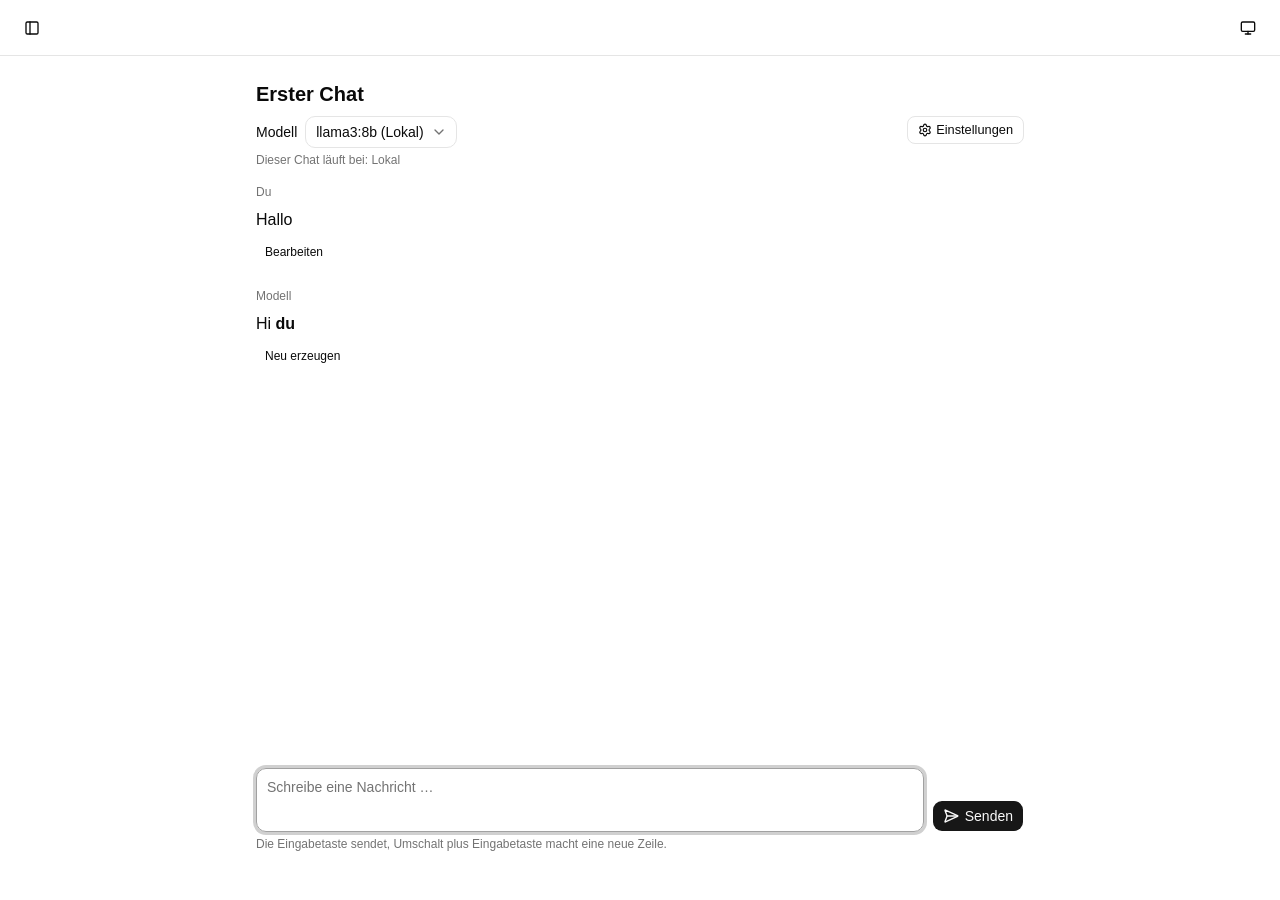
ChatPage: sending › does not leave a ghost message when the request is refused, and gives the text back
Expected: the heading "Erster Chat" is shown, 256,83 -> 364,105
Type "Neue Frage" into the text box labelled "Nachricht" at (590, 800), box 256,768 -> 924,832
Then press Enter
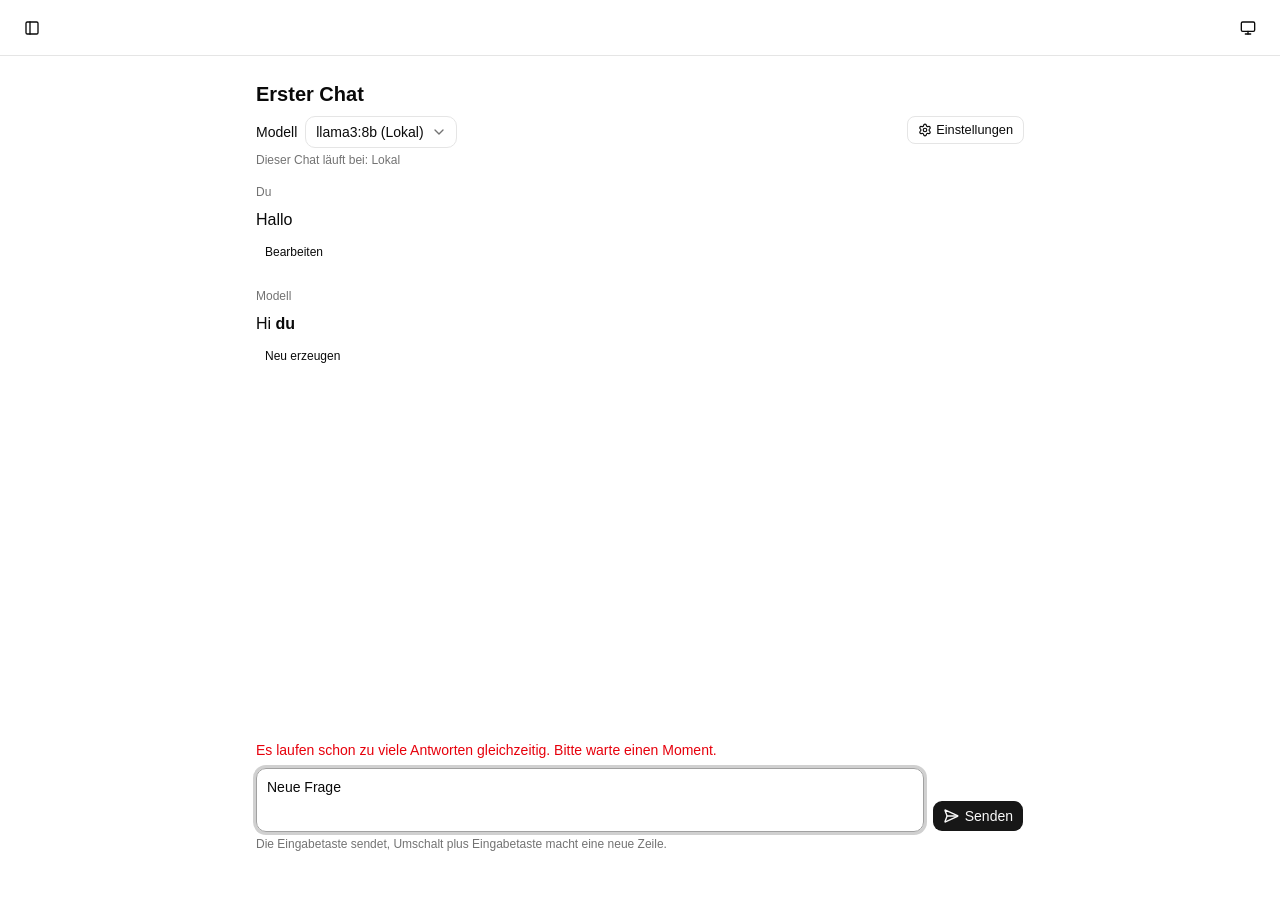
Expected: the text "Hallo" is shown, 256,211 -> 292,228
Expected: the text "Es laufen schon zu viele Antworten gleichzeitig. Bitte warte einen Moment." is shown, 256,742 -> 717,758
Expected: the text box named "Nachricht" holds "Neue Frage", 256,768 -> 924,832
